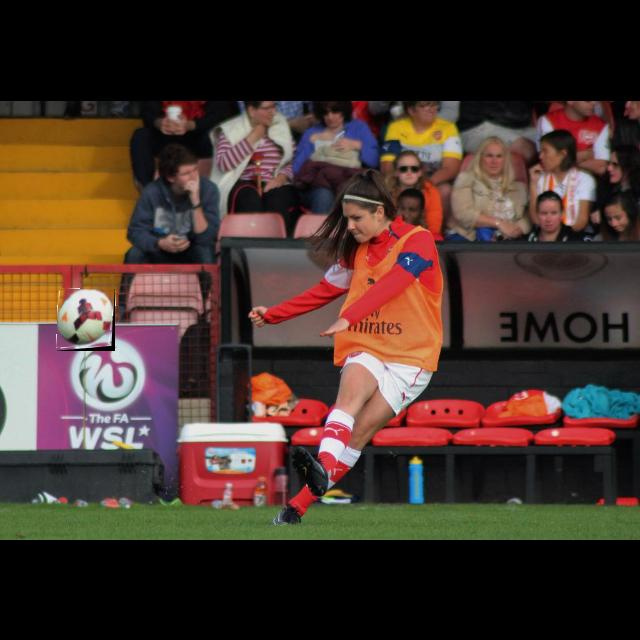Football: (57, 289, 115, 351)
